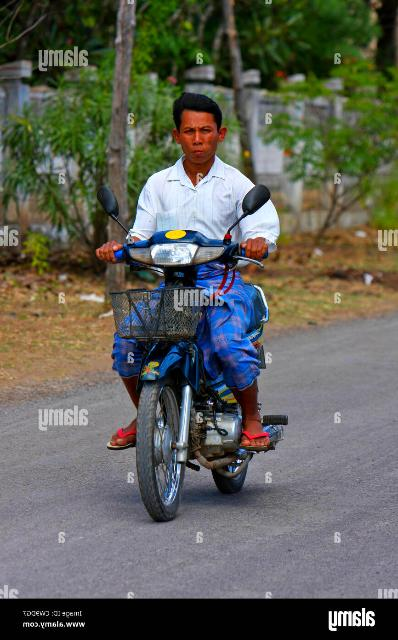motor: (92, 180, 271, 525)
non-helm: (171, 91, 228, 166)
